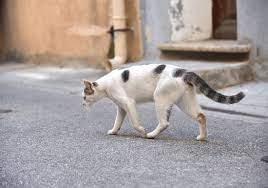cat: (82, 63, 246, 143)
